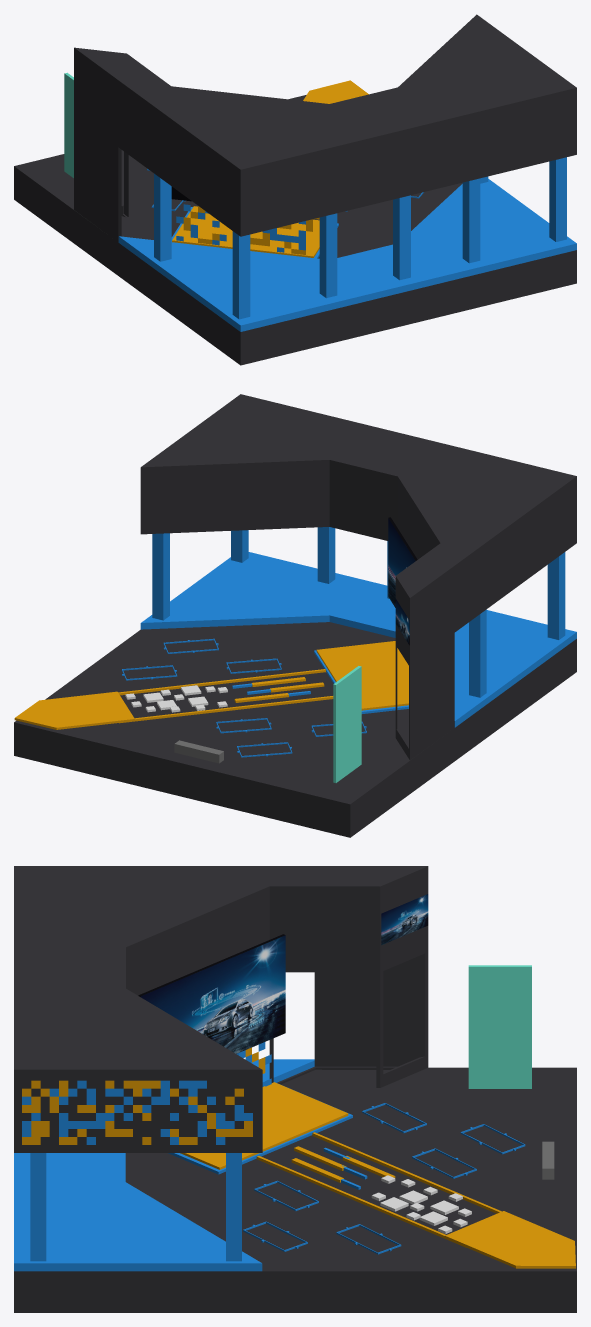
3 renders of one model, top to bottom at view 1: azimuth 30°, elevation 25°; view 2: azimuth 150°, elevation 25°; view 3: azimuth 270°, elevation 25°, orthographic. The views are drawn at different scales.
Visible parts, largest first — view 1: 立方体.042, 立方体, 立方体.043, 立方体.008, 立方体.006, 立方体.004, 立方体.005, 立方体.037, 立方体.003, 立方体.007, 立方体.036, 平面.004 (+2 smaller); view 2: 立方体.042, 立方体, 立方体.043, 立方体.008, 立方体.029, 立方体.036, 立方体.002, 立方体.006, 立方体.007, 立方体.030, 立方体.004, 立方体.041 (+3 smaller); view 3: 立方体.042, 立方体, 立方体.043, 立方体.030, 立方体.036, 立方体.029, 平面.001, 平面, 立方体.008, 立方体.003, 立方体.002, 立方体.044 (+3 smaller).
Boxes of the visible parts, bbox=[...] form: 立方体.042: bbox=[74, 14, 576, 242]; 立方体: bbox=[14, 95, 576, 365]; 立方体.043: bbox=[118, 179, 576, 331]; 立方体.008: bbox=[172, 206, 319, 257]; 立方体.006: bbox=[232, 231, 250, 319]; 立方体.004: bbox=[462, 178, 480, 263]; 立方体.005: bbox=[319, 213, 337, 298]; 立方体.037: bbox=[393, 195, 410, 280]; 立方体.003: bbox=[549, 157, 566, 241]; 立方体.007: bbox=[154, 173, 171, 261]; 立方体.036: bbox=[64, 72, 73, 177]; 平面.004: bbox=[176, 204, 305, 252]; 立方体.042: bbox=[140, 394, 576, 759]; 立方体: bbox=[14, 622, 576, 837]; 立方体.043: bbox=[140, 552, 576, 727]; 立方体.008: bbox=[316, 641, 408, 710]; 立方体.029: bbox=[14, 691, 134, 729]; 立方体.036: bbox=[333, 666, 361, 782]; 立方体.002: bbox=[152, 533, 169, 620]; 立方体.006: bbox=[547, 552, 565, 639]; 立方体.007: bbox=[469, 609, 486, 697]; 立方体.030: bbox=[388, 517, 417, 607]; 立方体.004: bbox=[317, 527, 335, 583]; 立方体.041: bbox=[119, 696, 333, 723]; 立方体.042: bbox=[14, 866, 428, 1152]; 立方体: bbox=[14, 1057, 576, 1312]; 立方体.043: bbox=[14, 1059, 314, 1271]; 立方体.030: bbox=[138, 934, 285, 1053]; 立方体.036: bbox=[468, 965, 531, 1088]; 立方体.029: bbox=[445, 1211, 575, 1268]; 平面.001: bbox=[22, 1080, 252, 1144]; 平面: bbox=[22, 1080, 252, 1144]; 立方体.008: bbox=[180, 1082, 348, 1169]; 立方体.003: bbox=[30, 1153, 46, 1261]; 立方体.002: bbox=[226, 1153, 241, 1261]; 立方体.044: bbox=[381, 894, 428, 945].
Size of the model in its own units: 60.04 by 33.38 by 70.05.
6 materials, 1 textured.
